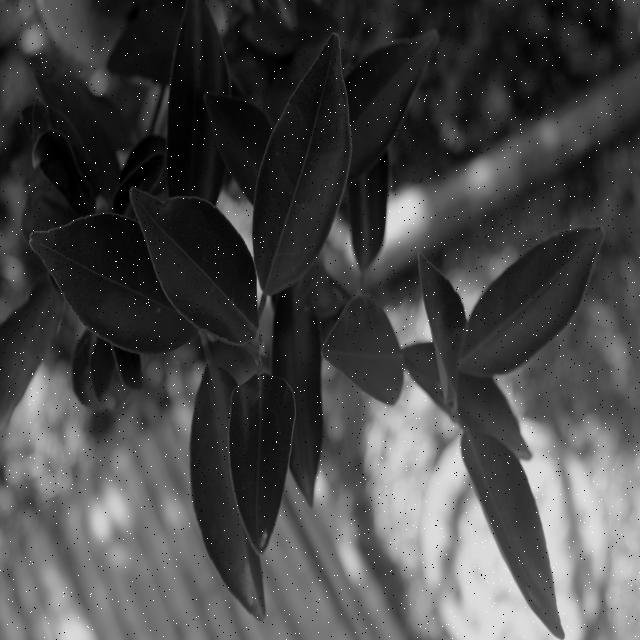healthy: (252, 34, 354, 297), (460, 221, 606, 383), (128, 182, 254, 346), (225, 363, 298, 550)
